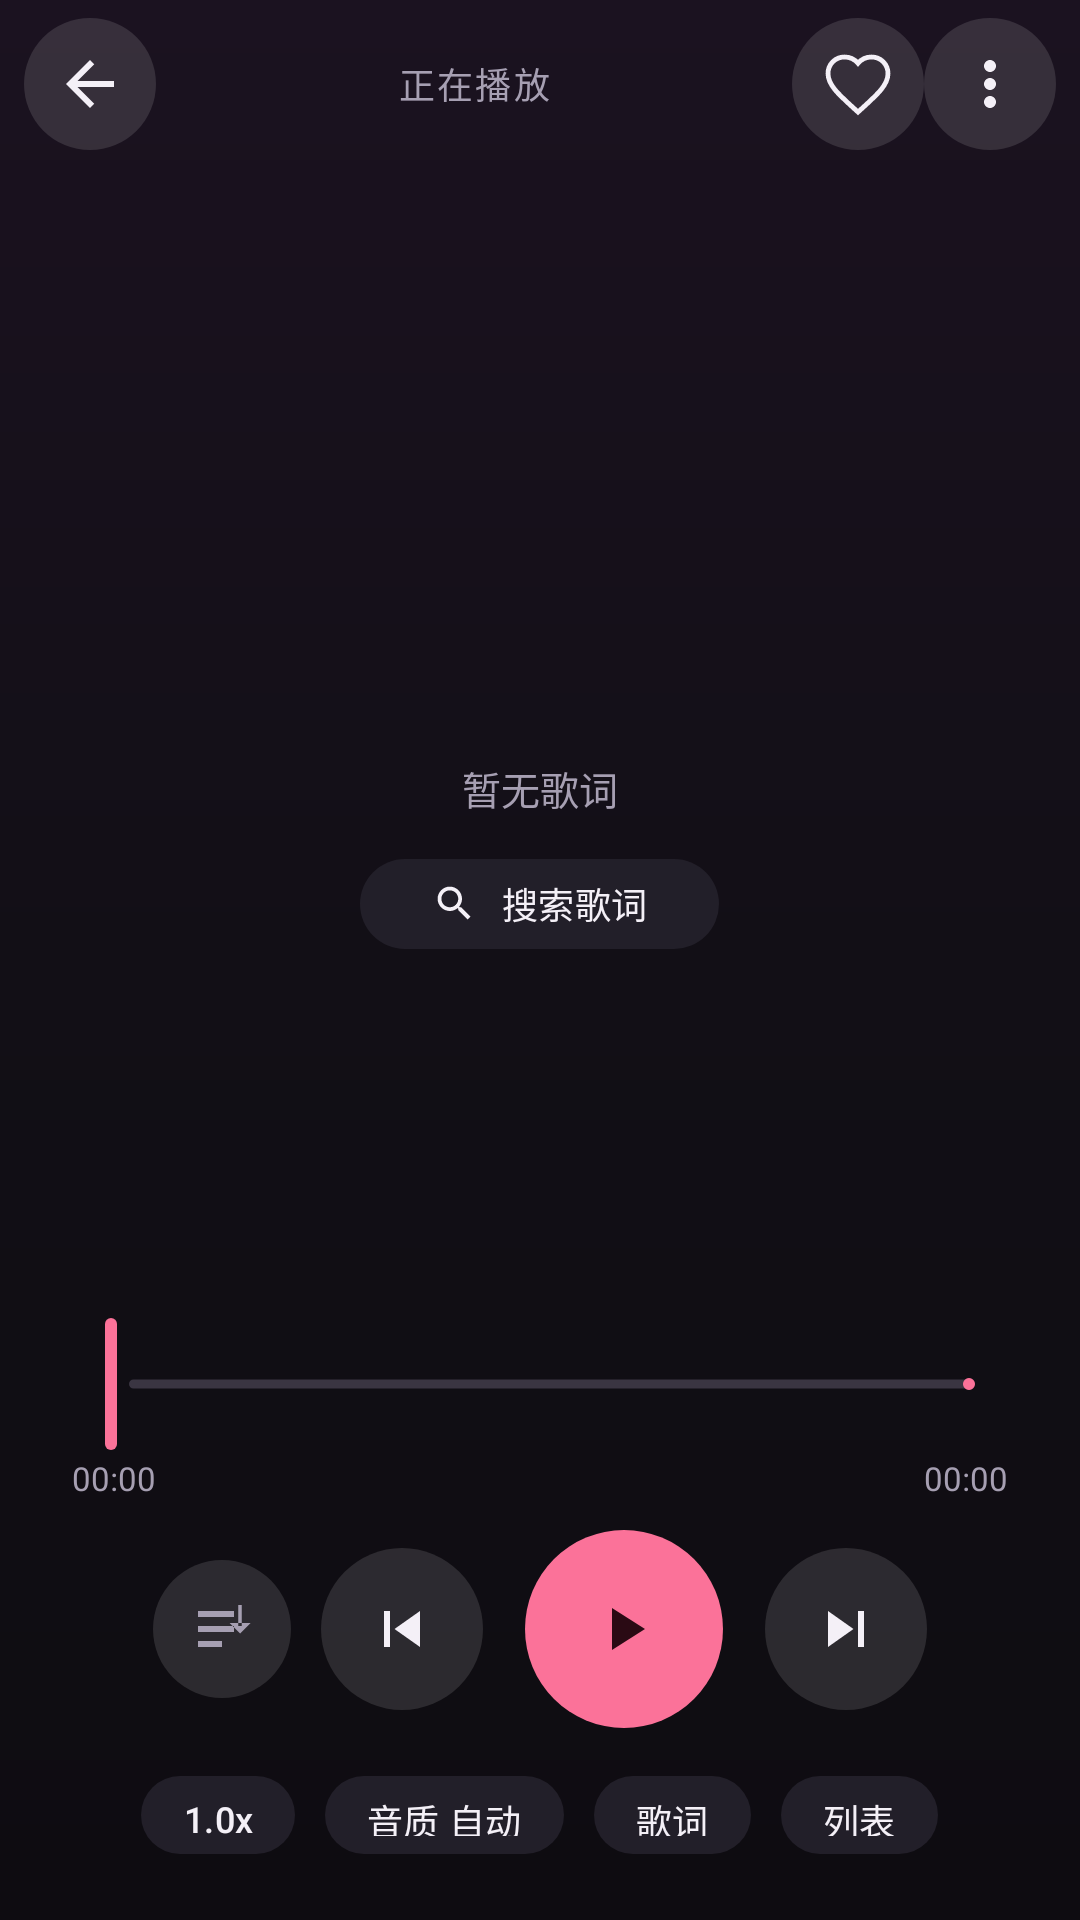

Locate icon controls on the screen. Image size 1080 x 1920, boxes as (x1,y1,x2,y2).
上一首: (321,1548,483,1710)
下一首: (765,1548,927,1710)
我喜欢: (792,18,924,150)
播放: (525,1530,723,1728)
播放模式: (153,1560,291,1698)
更多: (924,18,1056,150)
返回: (24,18,156,150)
